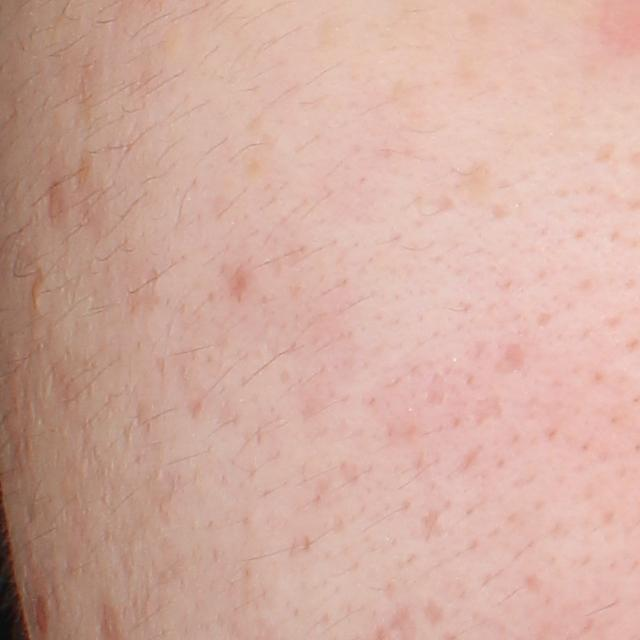atrophic_scar: (492, 343, 532, 378), (469, 393, 505, 428), (418, 499, 446, 544), (220, 268, 251, 303), (425, 596, 447, 626)
